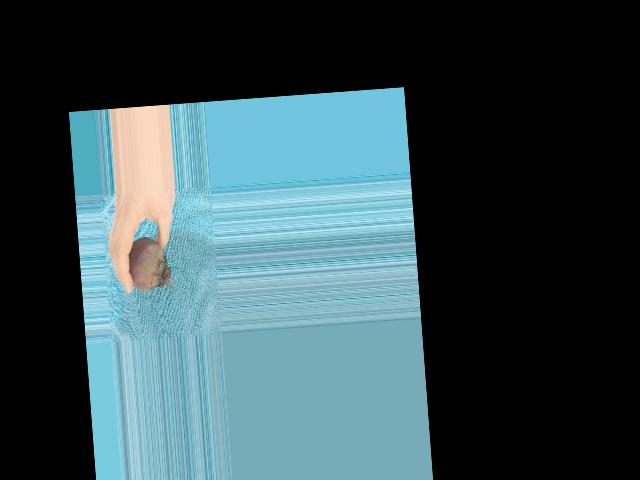beet: (127, 236, 173, 292)
